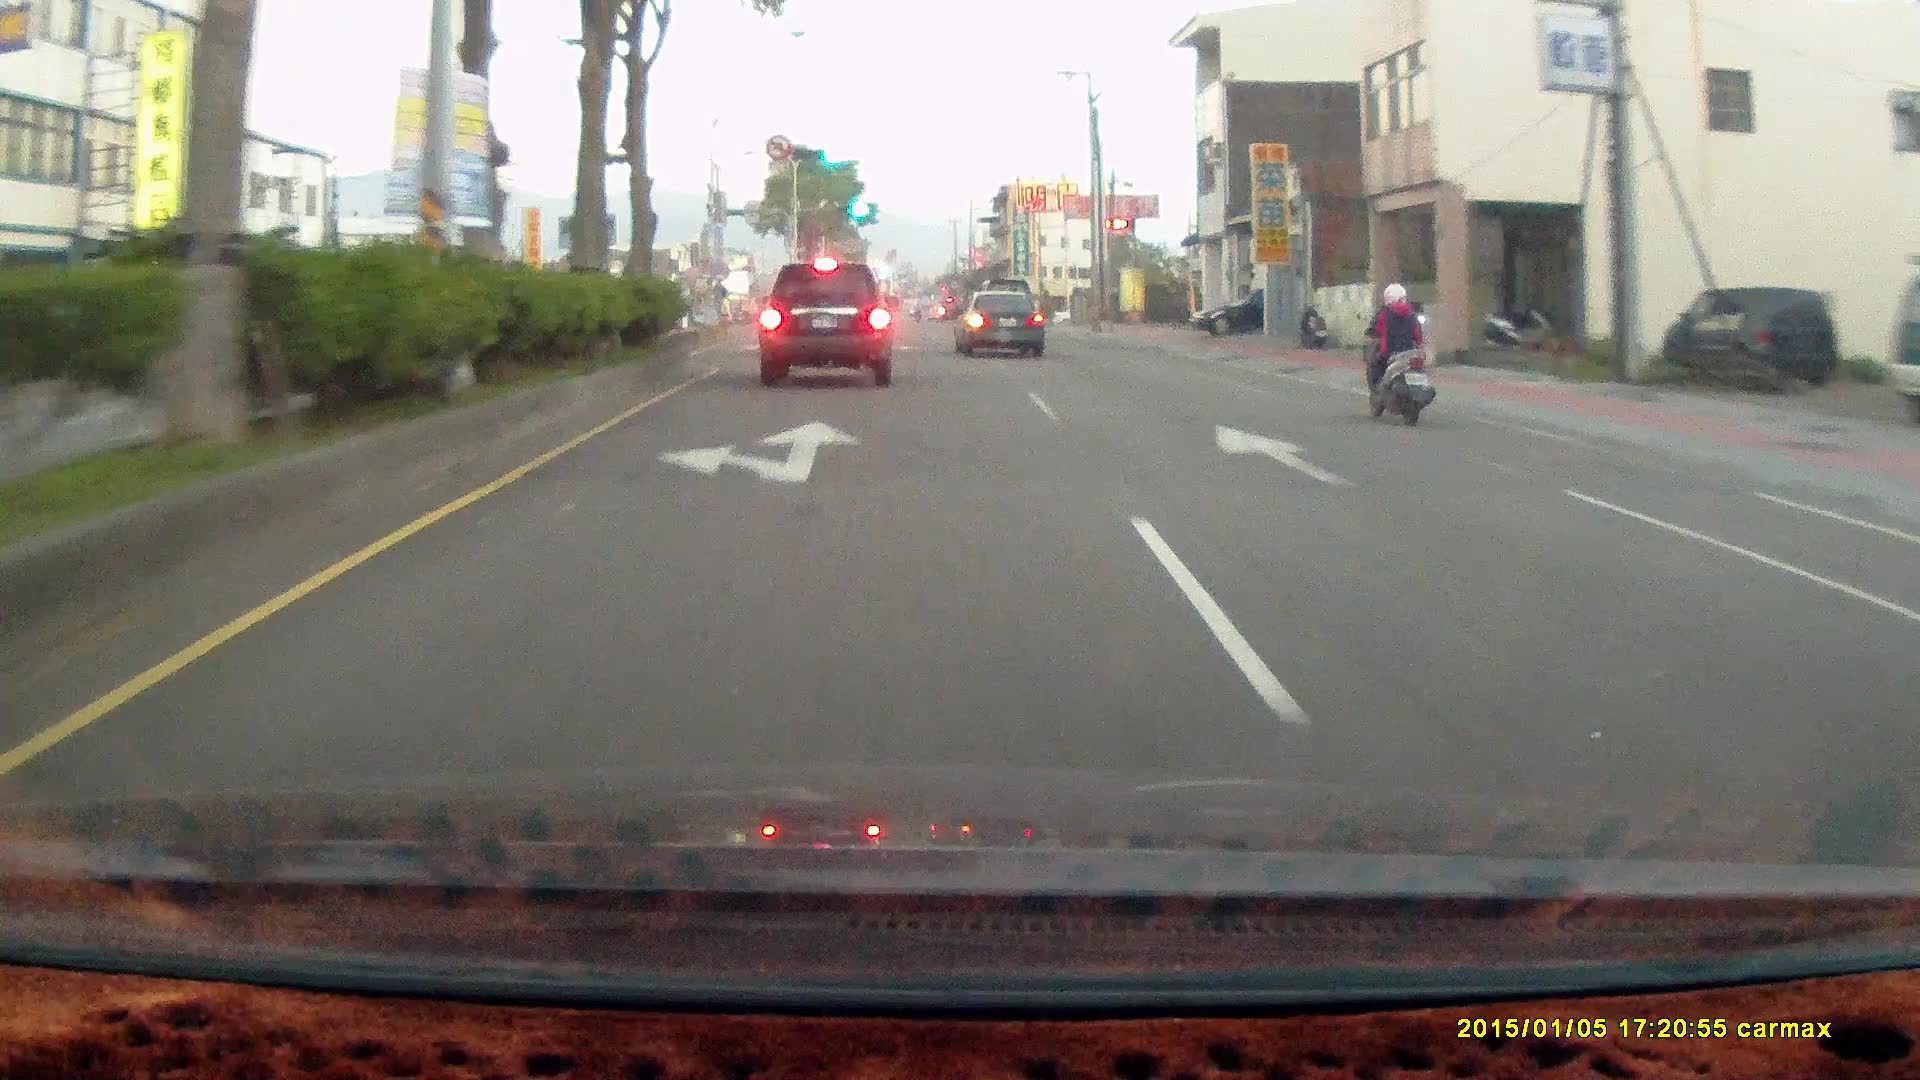rider: (1345, 268, 1451, 433), (1358, 283, 1436, 429)
vehicle: (1661, 283, 1842, 386), (1661, 286, 1839, 388), (759, 259, 897, 386), (759, 261, 899, 385), (1191, 285, 1325, 336), (953, 289, 1050, 360), (952, 291, 1043, 357), (1886, 272, 1920, 420), (1191, 286, 1268, 338)
